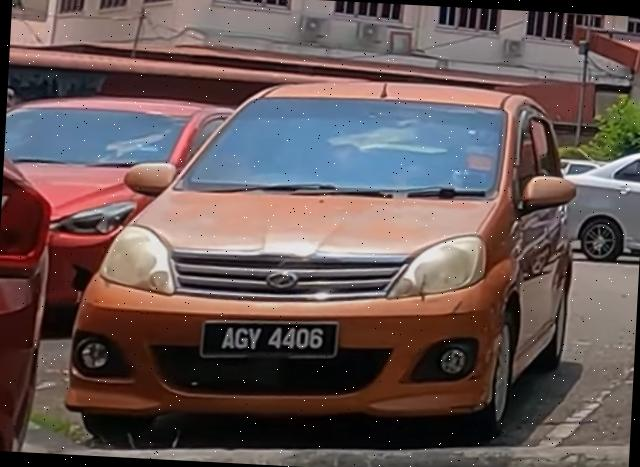License_Plate: (198, 314, 341, 365)
car: (61, 64, 583, 467)
